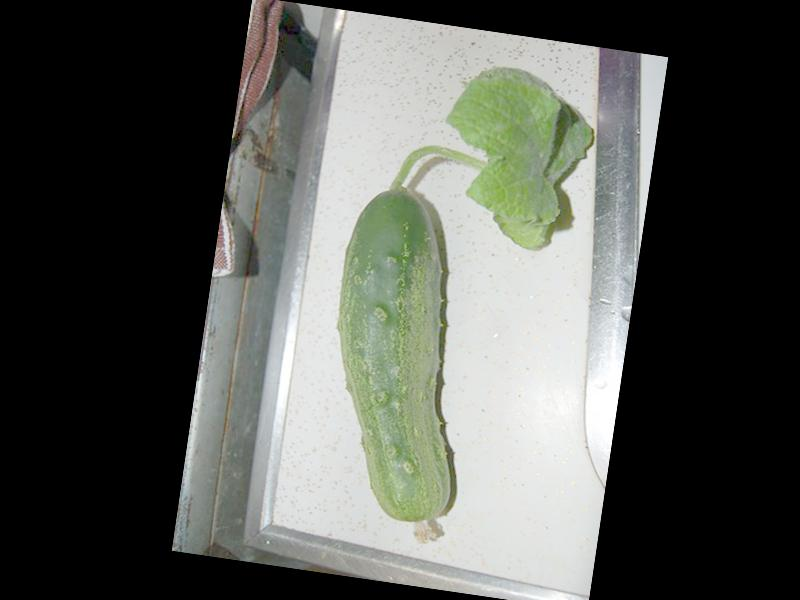Cucumber: (304, 179, 495, 547)
